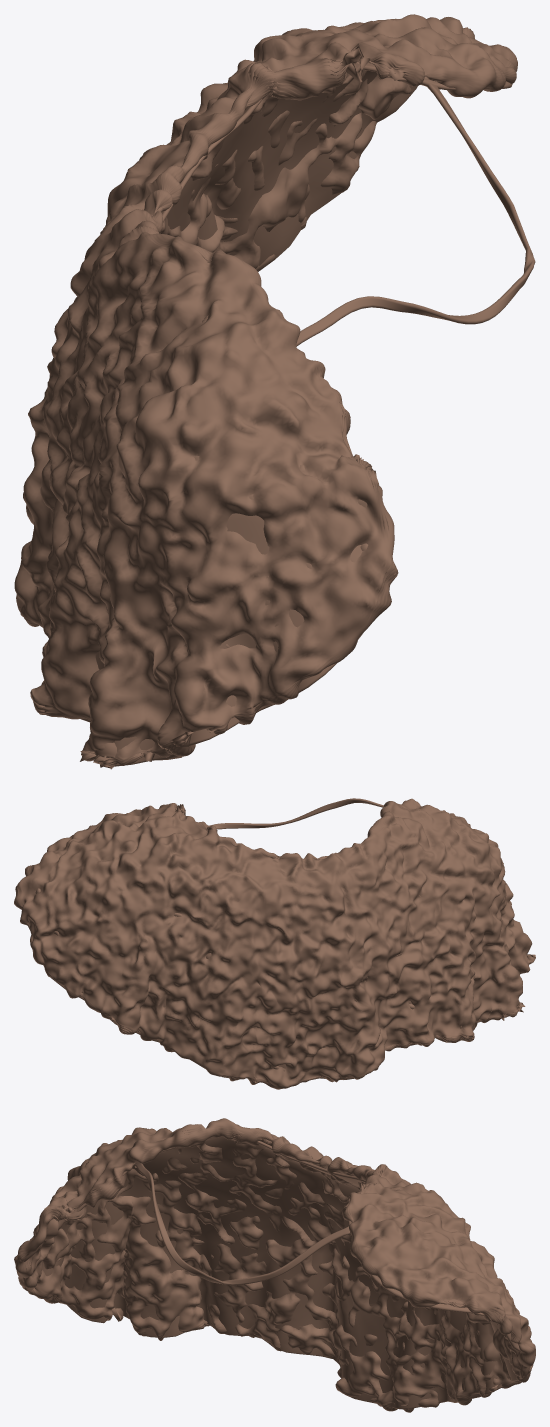
The model's file is COSSACK_BURKA_1#40.glb.
3 views of the same model, one above another, from view 1: azimuth 30°, elevation 25°; view 2: azimuth 150°, elevation 25°; view 3: azimuth 270°, elevation 25° (orthographic). The views are drawn at different scales.
Visible parts, largest first — view 1: 1_level_kazak_pose_1; view 2: 1_level_kazak_pose_1; view 3: 1_level_kazak_pose_1.
Boxes of the visible parts, bbox=[...] form: 1_level_kazak_pose_1: bbox=[14, 14, 535, 769]; 1_level_kazak_pose_1: bbox=[14, 798, 535, 1089]; 1_level_kazak_pose_1: bbox=[14, 1118, 535, 1412].
Size of the model in its own units: 3.81 by 2.6 by 4.23.
